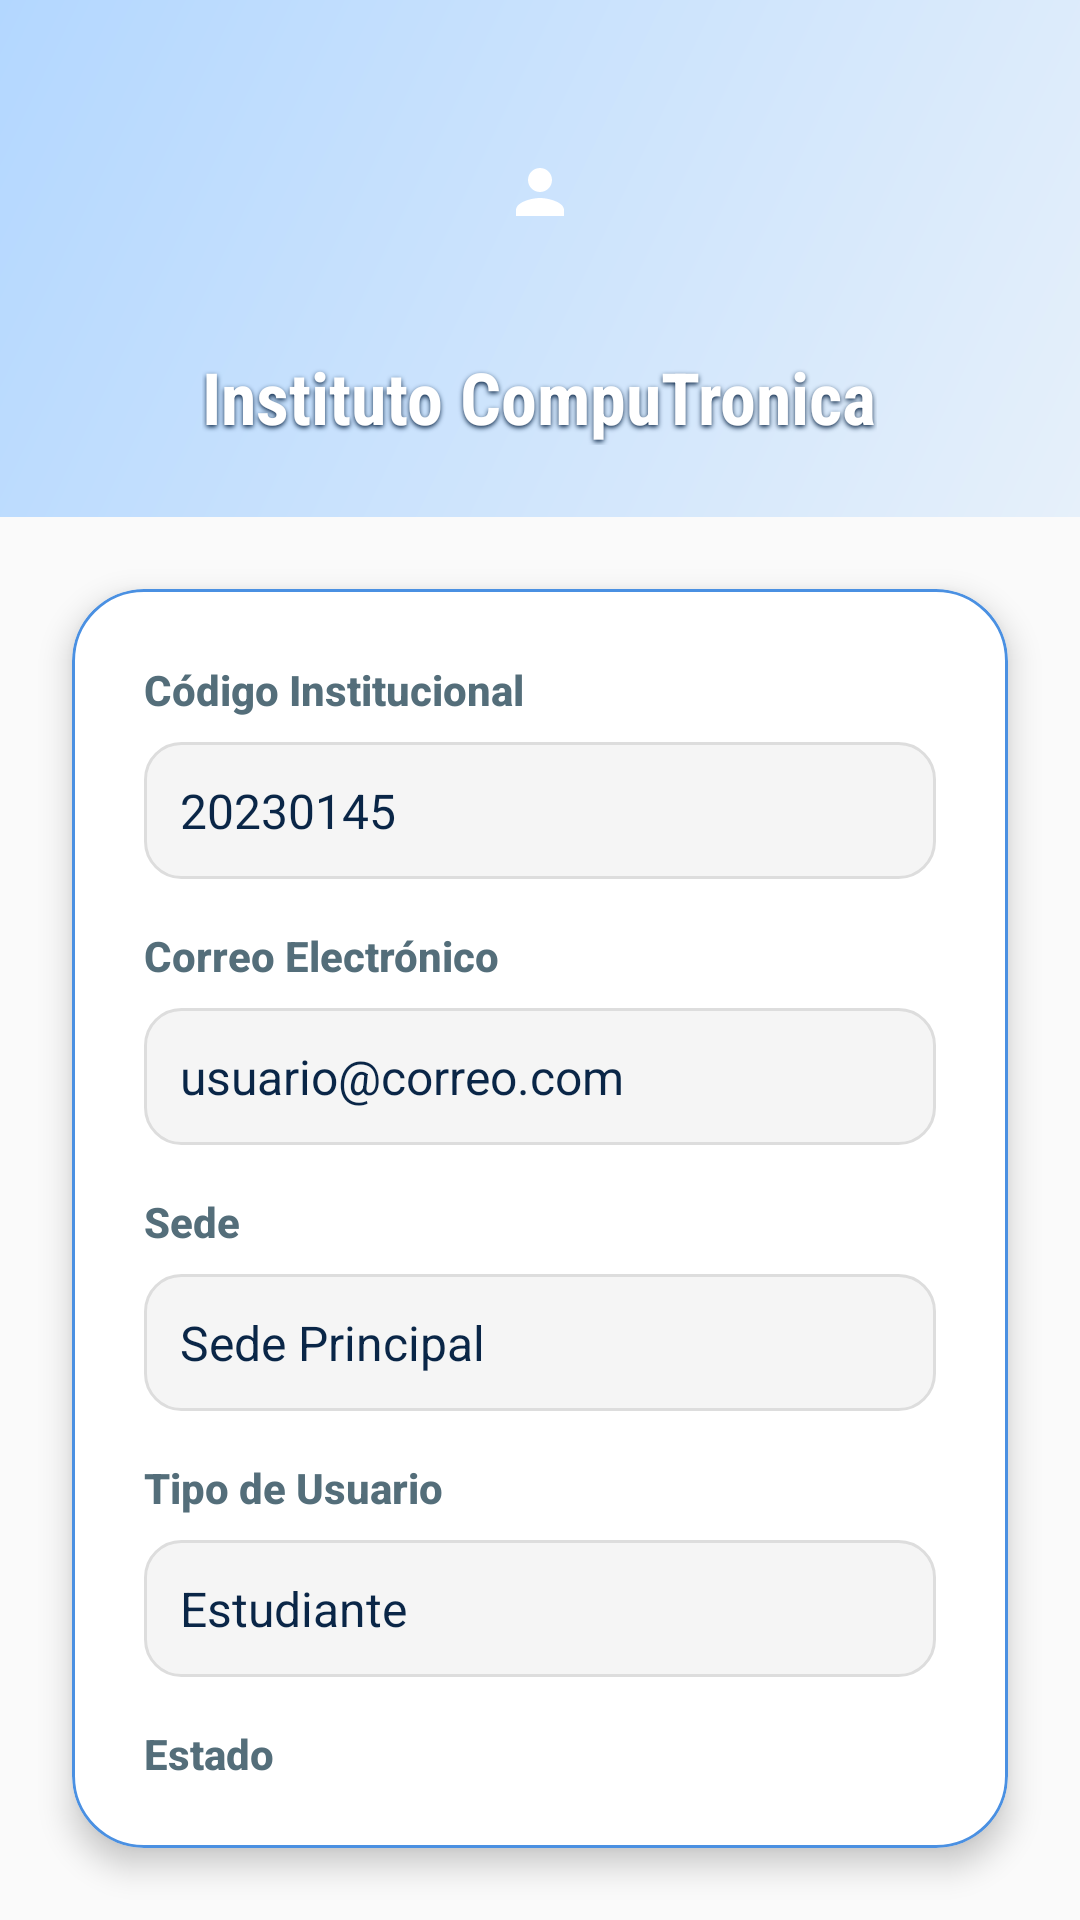

Icons on this 1080*1920 Android screen, each with the point to tap as point (x, y):
Foto de perfil: point (540, 192)
